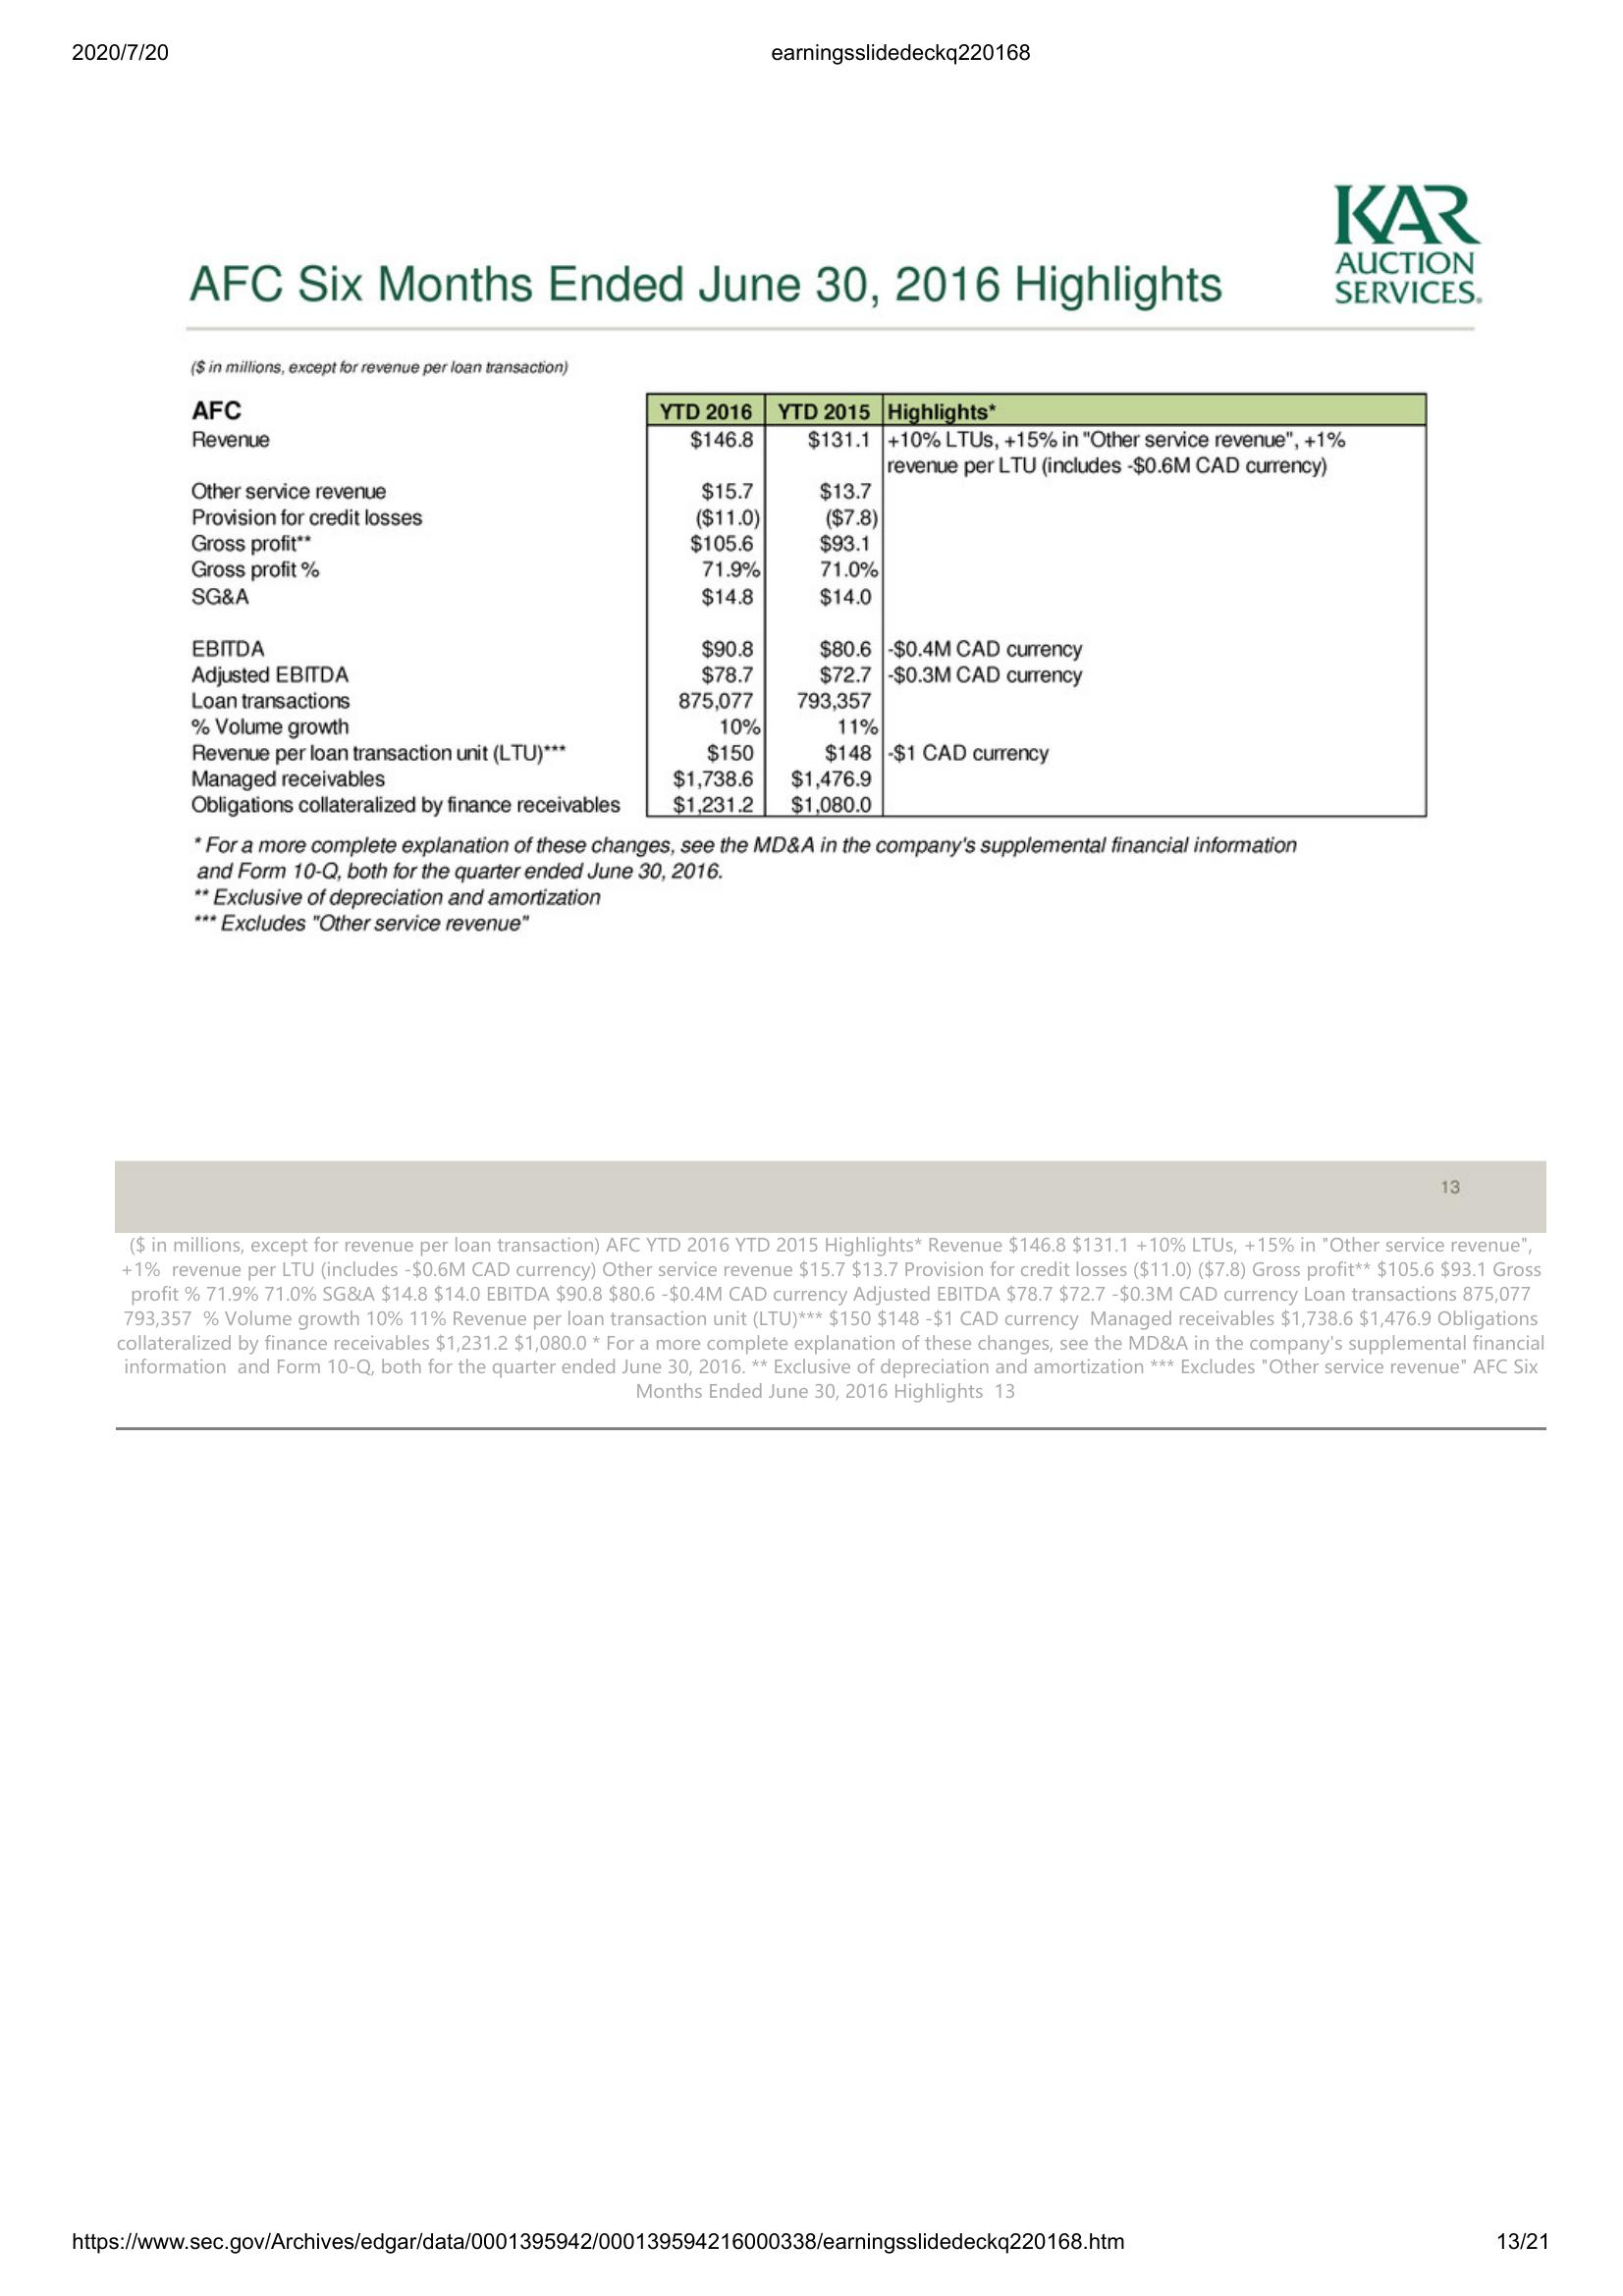table: (641, 386, 1439, 827)
